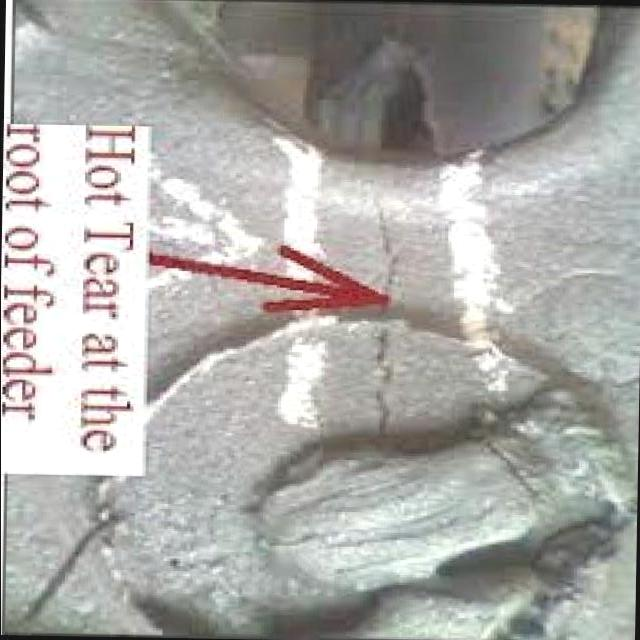defect: (371, 200, 403, 452)
